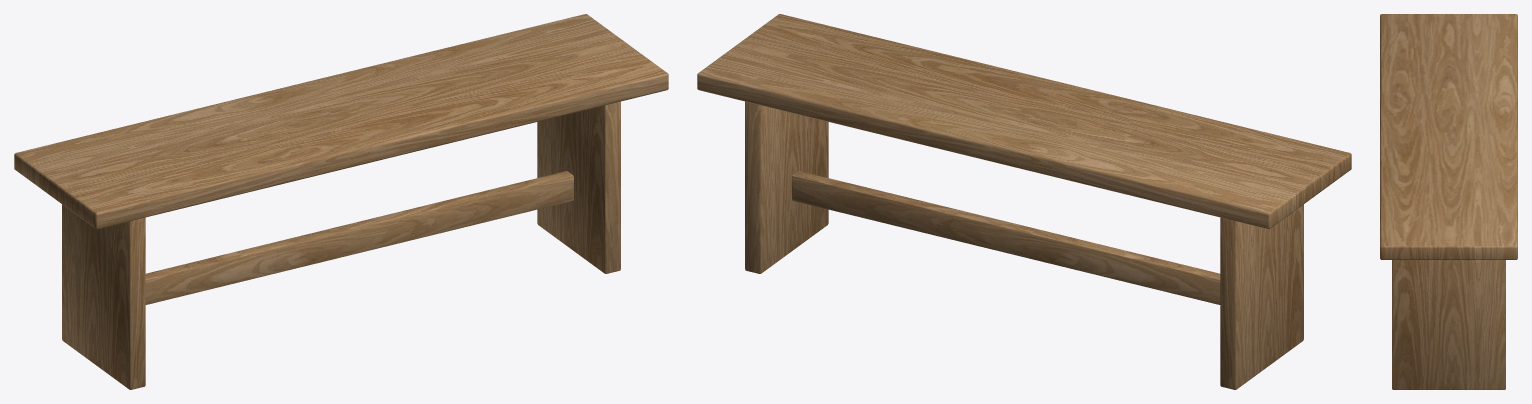
The model's file is banco_madera_140.glb.
The picture shows the model from 3 angles, left to right: view 1: azimuth 30°, elevation 25°; view 2: azimuth 150°, elevation 25°; view 3: azimuth 270°, elevation 25°; orthographic projection. The views are drawn at different scales.
Visible parts, largest first — view 1: banco_madera_140; view 2: banco_madera_140; view 3: banco_madera_140.
Boxes of the visible parts, x1=… form: banco_madera_140: x1=14, y1=14, x2=668, y2=389; banco_madera_140: x1=697, y1=14, x2=1351, y2=389; banco_madera_140: x1=1380, y1=14, x2=1517, y2=389.
Size of the model in its own units: 1.4 by 0.45 by 0.3501.
1 material, 1 textured.
